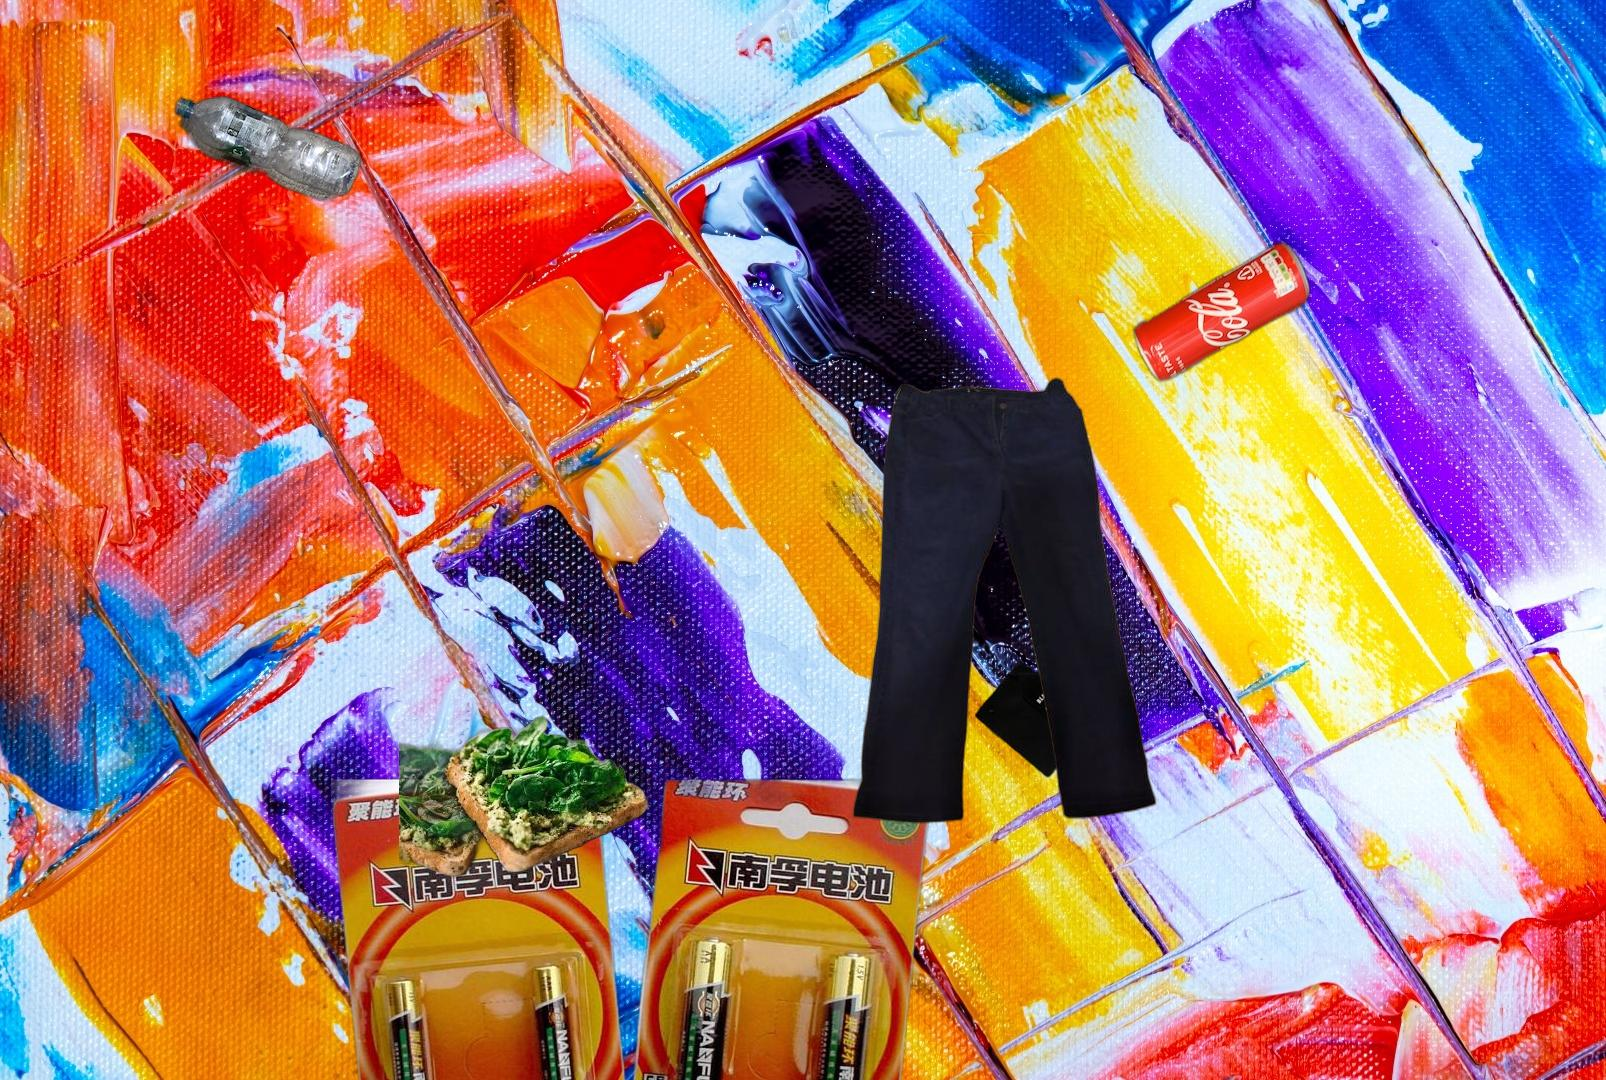battery: (331, 765, 929, 1080)
biological: (399, 714, 652, 879)
clothes: (849, 372, 1160, 827)
metal-cans: (920, 236, 1314, 764)
paper-bag: (972, 659, 1098, 780)
plastic-bottles: (171, 92, 365, 206)
